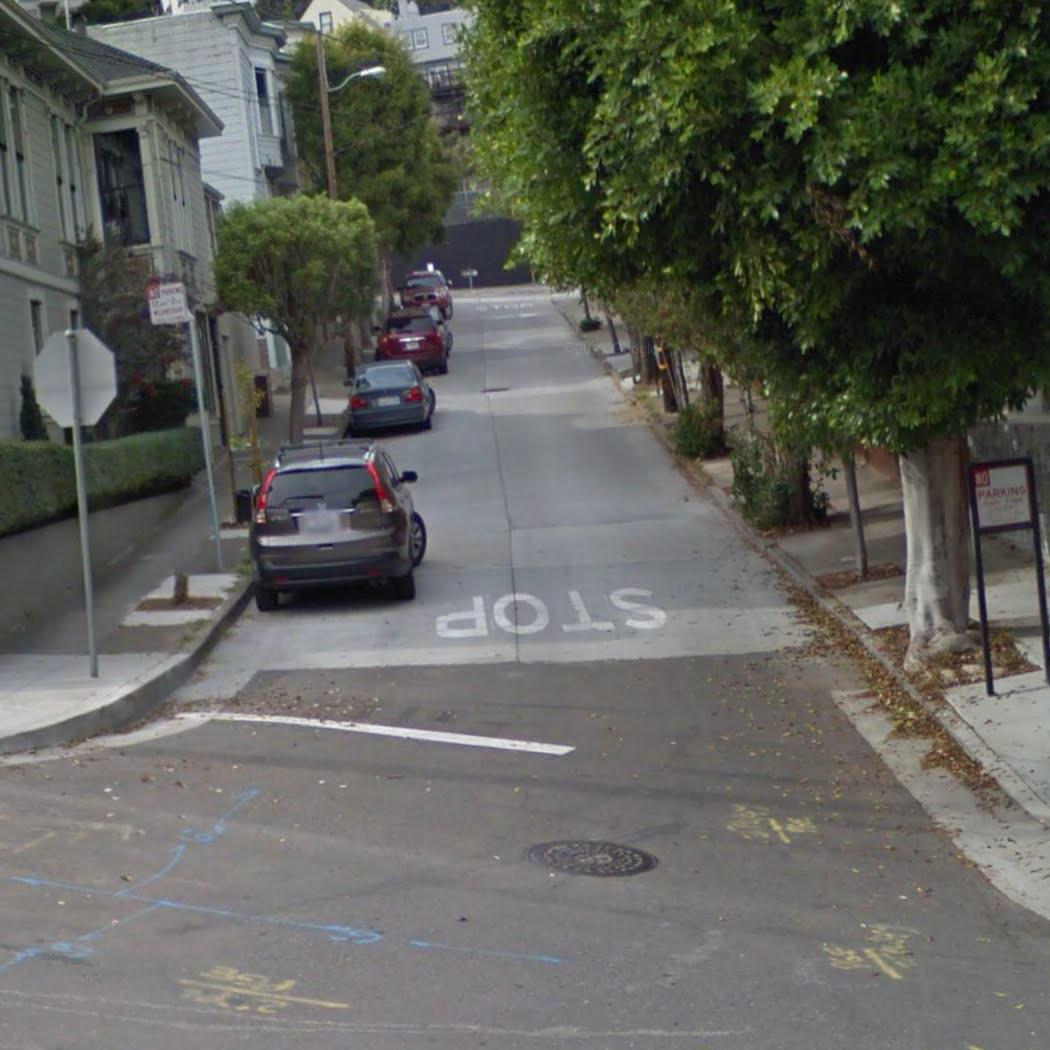No Parking: (145, 278, 189, 327)
